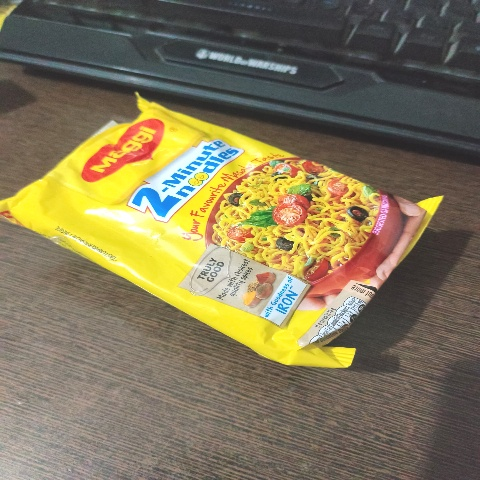maggi: (0, 84, 437, 367)
